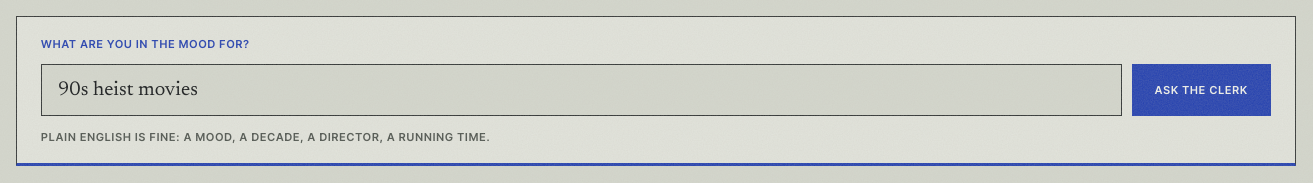
Test case: ClerkCounter › can't be submitted empty, and doesn't ask again for what's already on the shelf
The width and height of the screenshot is (1313, 183).
Click the button "Ask the clerk" at (1201, 90), box [1132,64,1271,116]
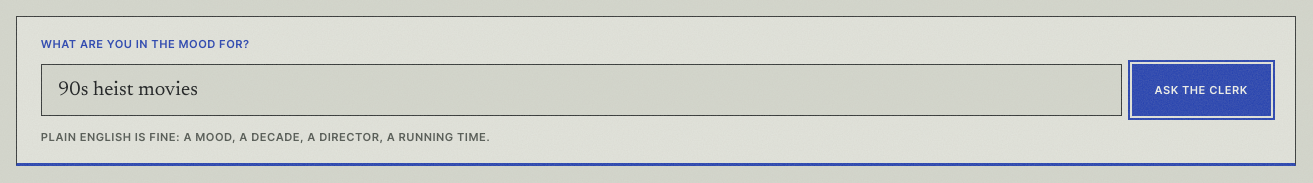
Clear the search field at (581, 90), box [41,64,1122,116]
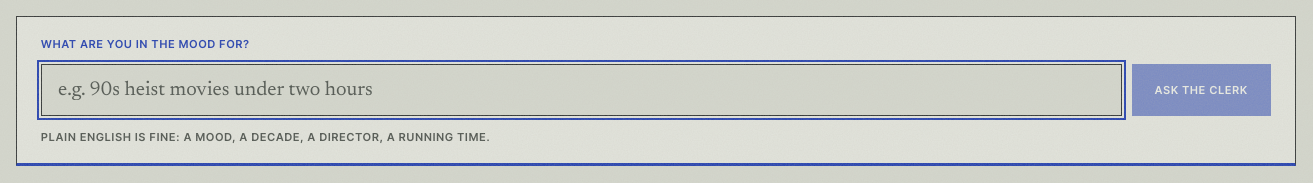
Now the button "Ask the clerk" is disabled, box [1132,64,1271,116]
